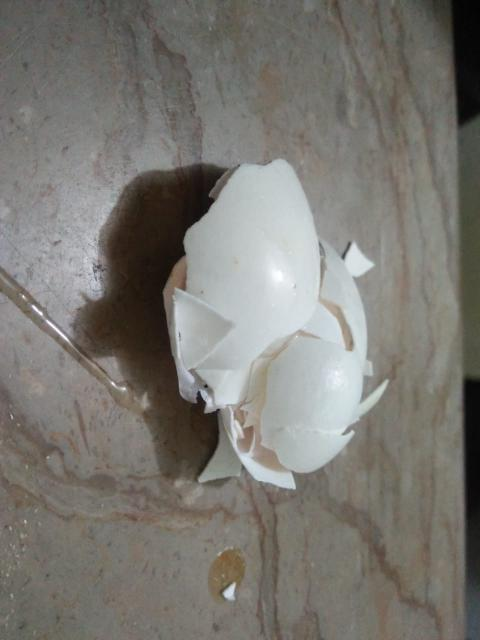Roto: (162, 157, 389, 489)
